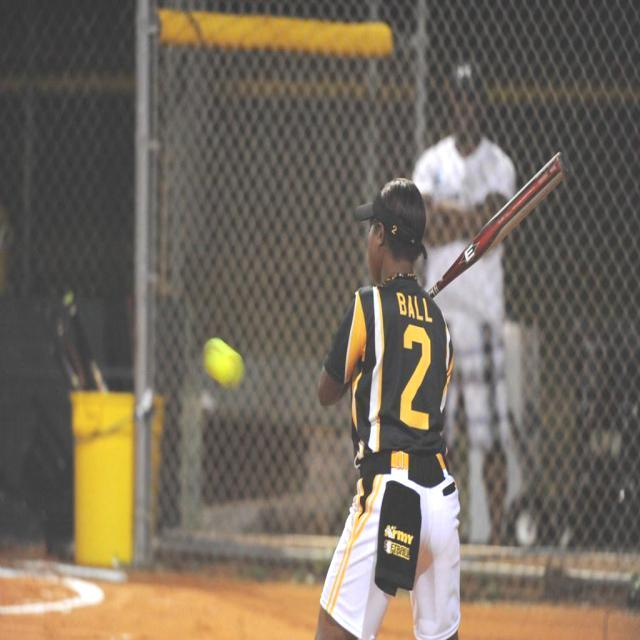bat: (427, 149, 571, 297)
